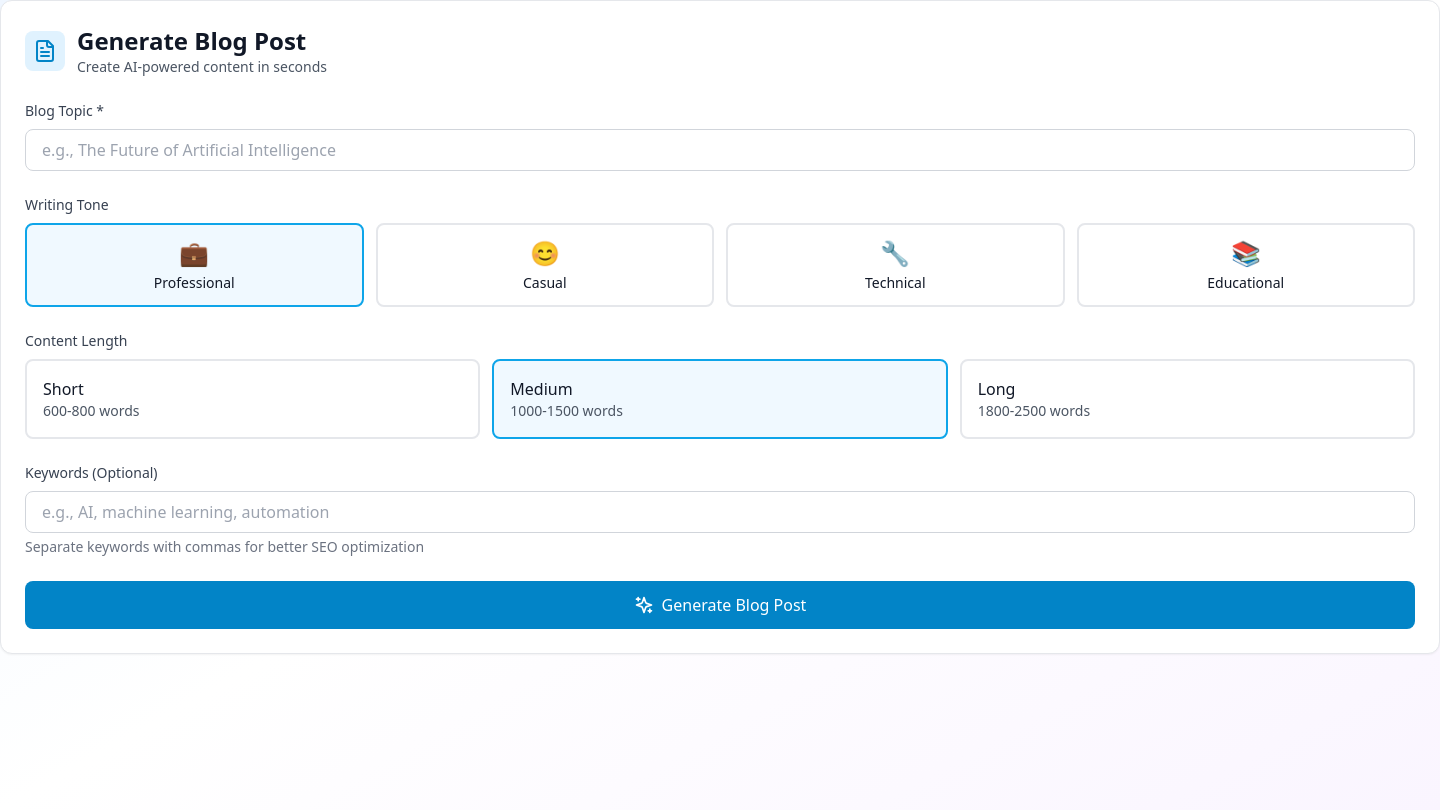
Test case: BlogForm › shows validation error for empty topic
Click the button "Generate Blog Post": [720, 605] box [25,581,1415,629]
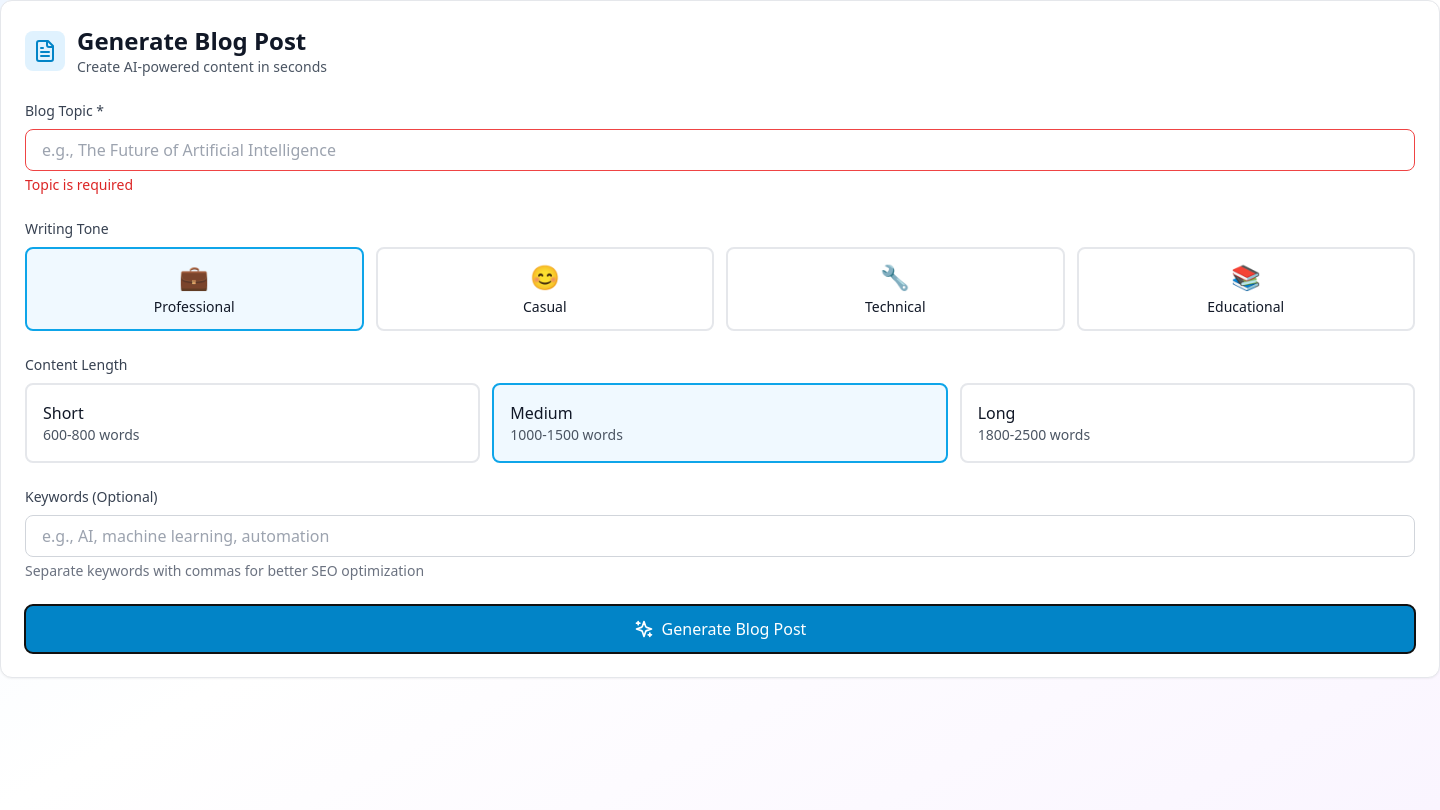
Check: the text "Topic is required" is shown, box [25,175,133,194]
